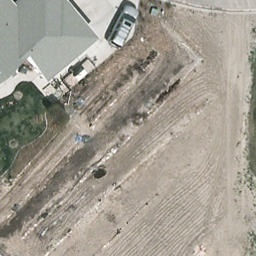car: (106, 4, 142, 51)
